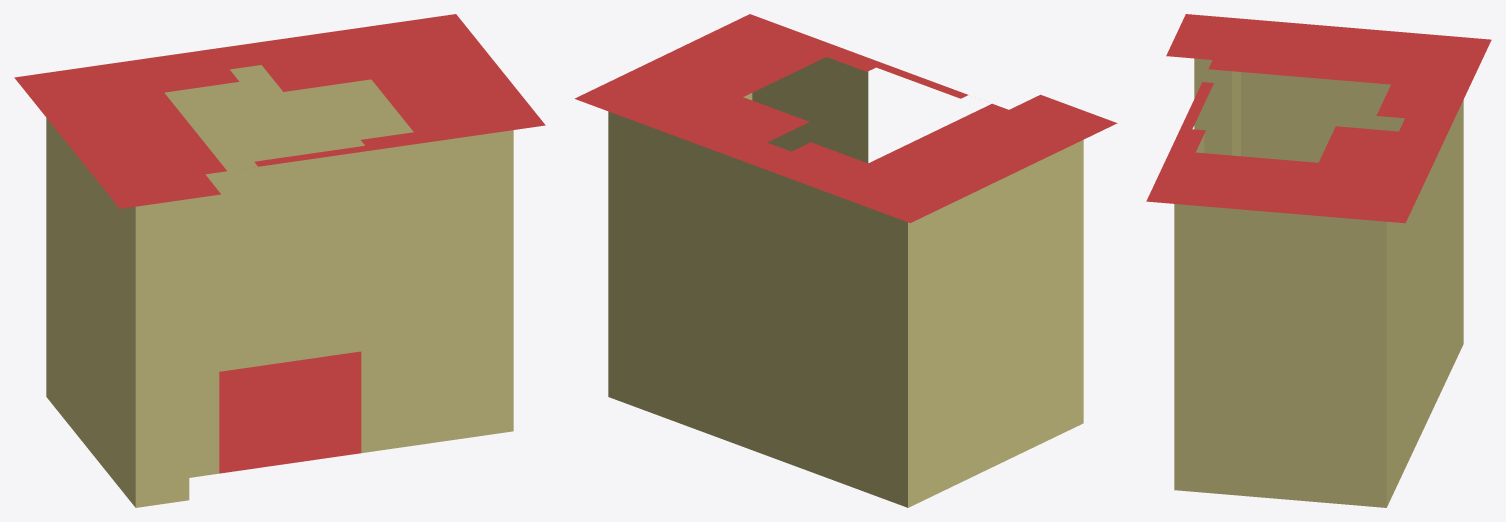
The picture shows the model from 3 angles, left to right: view 1: azimuth 30°, elevation 25°; view 2: azimuth 150°, elevation 25°; view 3: azimuth 270°, elevation 25°; orthographic projection. The views are drawn at different scales.
Parts seen in each view (by area): view 1: group_5, group_3, group_6, group_4; view 2: group_5, group_3, group_4; view 3: group_5, group_3, group_4.
Part boxes in pixels (<box>): group_5: <box>46,65,513,507</box>; group_3: <box>14,14,545,208</box>; group_6: <box>219,351,361,473</box>; group_4: <box>16,25,386,193</box>; group_5: <box>608,57,1083,507</box>; group_3: <box>574,14,1117,222</box>; group_4: <box>596,96,1065,221</box>; group_5: <box>1174,58,1463,507</box>; group_3: <box>1146,14,1491,223</box>; group_4: <box>1168,26,1490,205</box>.
Size of the model in its own units: 20.65 by 14.41 by 13.65.
